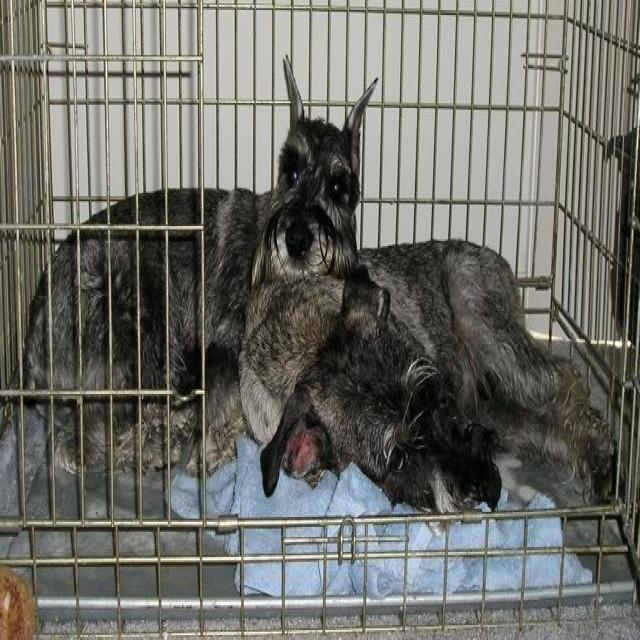standard_schnauzer: (18, 53, 380, 484), (234, 239, 618, 512)
